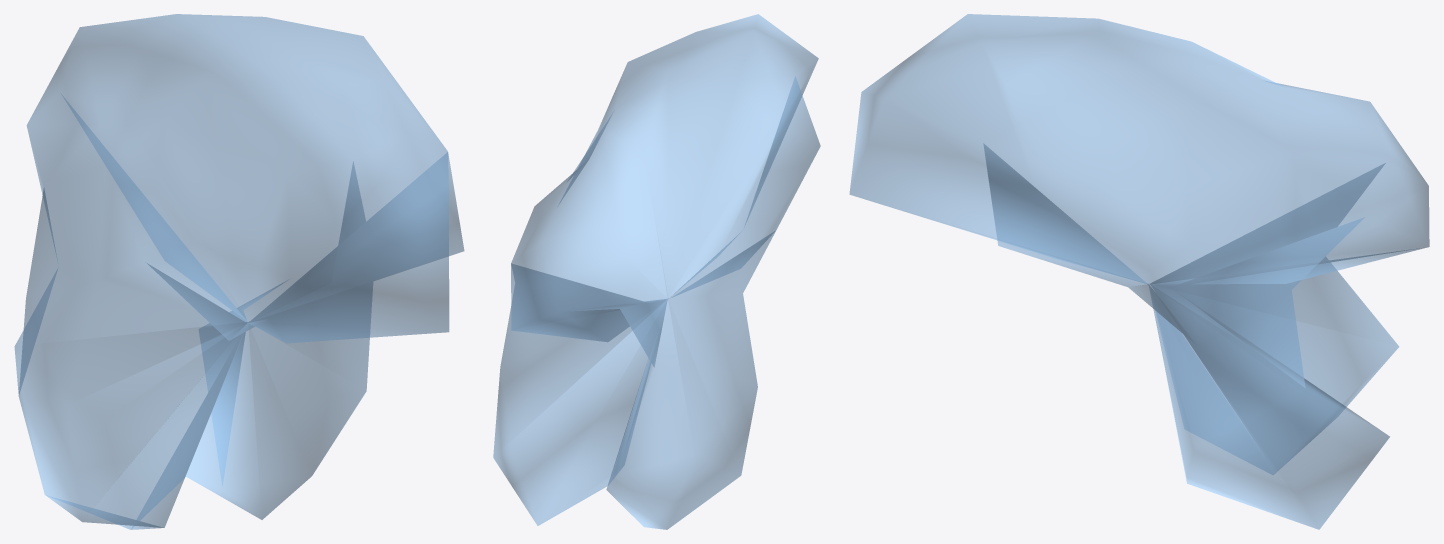
The model's file is mscout_shield.gltf.
3 renders of one model, left to right at view 1: azimuth 30°, elevation 25°; view 2: azimuth 150°, elevation 25°; view 3: azimuth 270°, elevation 25°, orthographic. The views are drawn at different scales.
Parts seen in each view (by area): view 1: mscout.shield; view 2: mscout.shield; view 3: mscout.shield.
Boxes of the visible parts, left/top/right/bottom form: mscout.shield: left=14, top=14, right=464, bottom=529; mscout.shield: left=493, top=14, right=820, bottom=529; mscout.shield: left=849, top=14, right=1429, bottom=529.
Size of the model in its own units: 8.86 by 15.87 by 17.45.
